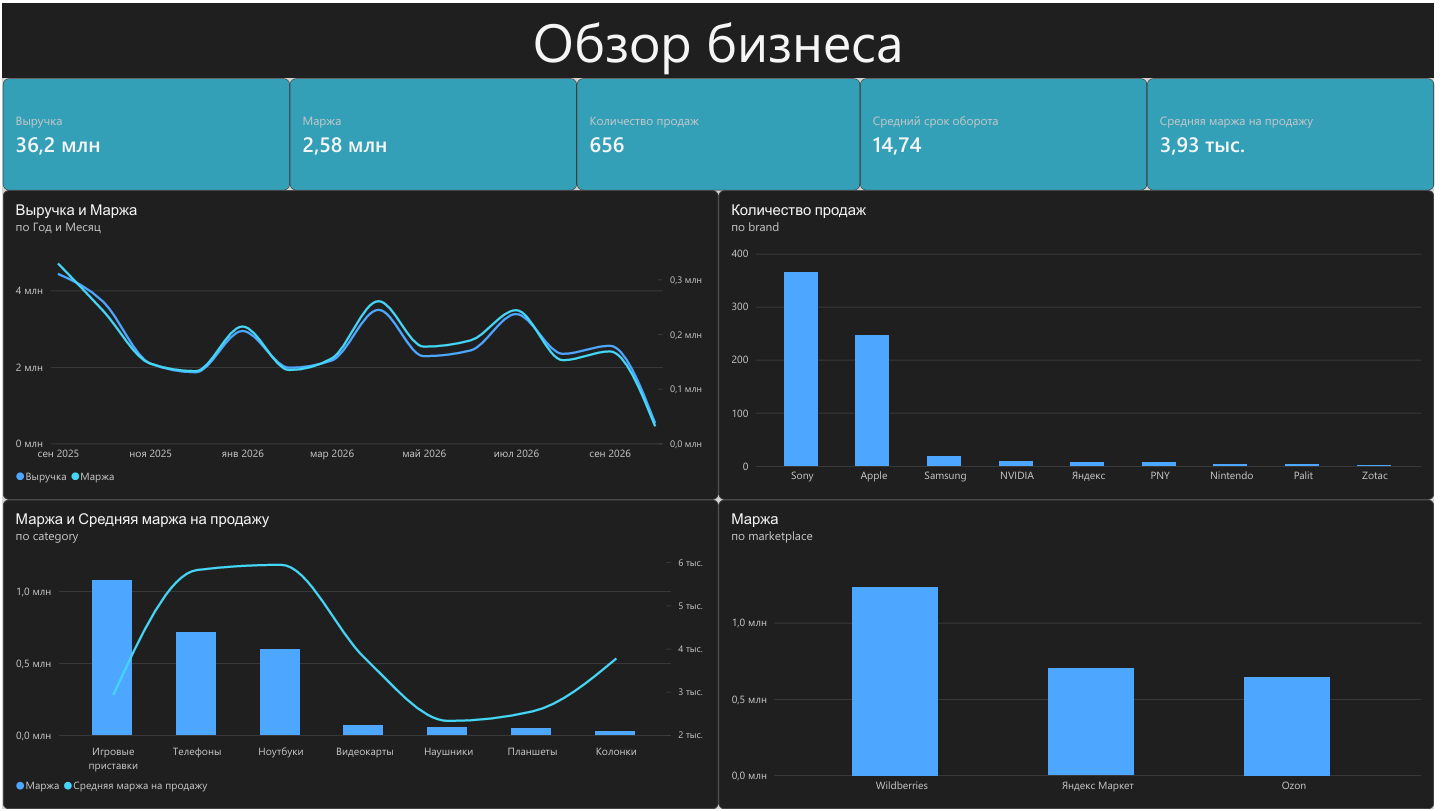

The dashboard page shown, as its layout file describes it:
{"tool":"powerbi","page":{"name":"Обзор бизнеса","canvas":[1920,1080],"ordinal":0},"visuals":[{"type":"cardVisual","fields":{"Data":["Sales.Выручка"]},"box":[0,100,385,150],"z":1000},{"type":"cardVisual","fields":{"Data":["Sales.Маржа"]},"box":[385,100,385,150],"z":2000},{"type":"cardVisual","fields":{"Data":["Sales.Количество продаж"]},"box":[770,100,380,150],"z":3000},{"type":"cardVisual","fields":{"Data":["Sales.Средний срок оборота"]},"box":[1150,100,385,150],"z":4000},{"type":"lineChart","fields":{"Category":["Sales.sale_date.Variation.Иерархия дат.Год","Sales.sale_date.Variation.Иерархия дат.Месяц"],"Y":["Sales.Выручка"],"Y2":["Sales.Маржа"]},"box":[0,250,960,415],"z":5000},{"type":"lineClusteredColumnComboChart","fields":{"Category":["Products.category"],"Y":["Sales.Маржа"],"Y2":["Sales.Средняя маржа на продажу"]},"box":[0,665,960,415],"z":6000},{"type":"clusteredColumnChart","fields":{"Category":["Products.brand"],"Y":["Sales.Количество продаж"]},"box":[960,250,960,415],"z":7000},{"type":"cardVisual","fields":{"Data":["Sales.Средняя маржа на продажу"]},"box":[1535,100,385,150],"z":8000},{"type":"clusteredColumnChart","fields":{"Category":["Suppliers.marketplace"],"Y":["Sales.Маржа"]},"box":[960,665,960,415],"z":9000},{"type":"textbox","box":[0,0,1920,100],"z":9500}]}

Visuals, with their boxes in screenshot pixels (x1, y1, x2, y2), scaled from the page's 1920x1080 canvas onto the 1446x811 screenshot:
cardVisual - Sales.Выручка: [0, 75, 290, 188]
cardVisual - Sales.Маржа: [290, 75, 580, 188]
cardVisual - Sales.Количество продаж: [580, 75, 866, 188]
cardVisual - Sales.Средний срок оборота: [866, 75, 1156, 188]
lineChart - Sales.sale_date.Variation.Иерархия дат.Год x Sales.sale_date.Variation.Иерархия дат.Месяц: [0, 188, 723, 499]
lineClusteredColumnComboChart - Products.category x Sales.Маржа: [0, 499, 723, 810]
clusteredColumnChart - Products.brand x Sales.Количество продаж: [723, 188, 1445, 499]
cardVisual - Sales.Средняя маржа на продажу: [1156, 75, 1445, 188]
clusteredColumnChart - Suppliers.marketplace x Sales.Маржа: [723, 499, 1445, 810]
textbox: [0, 0, 1445, 75]
